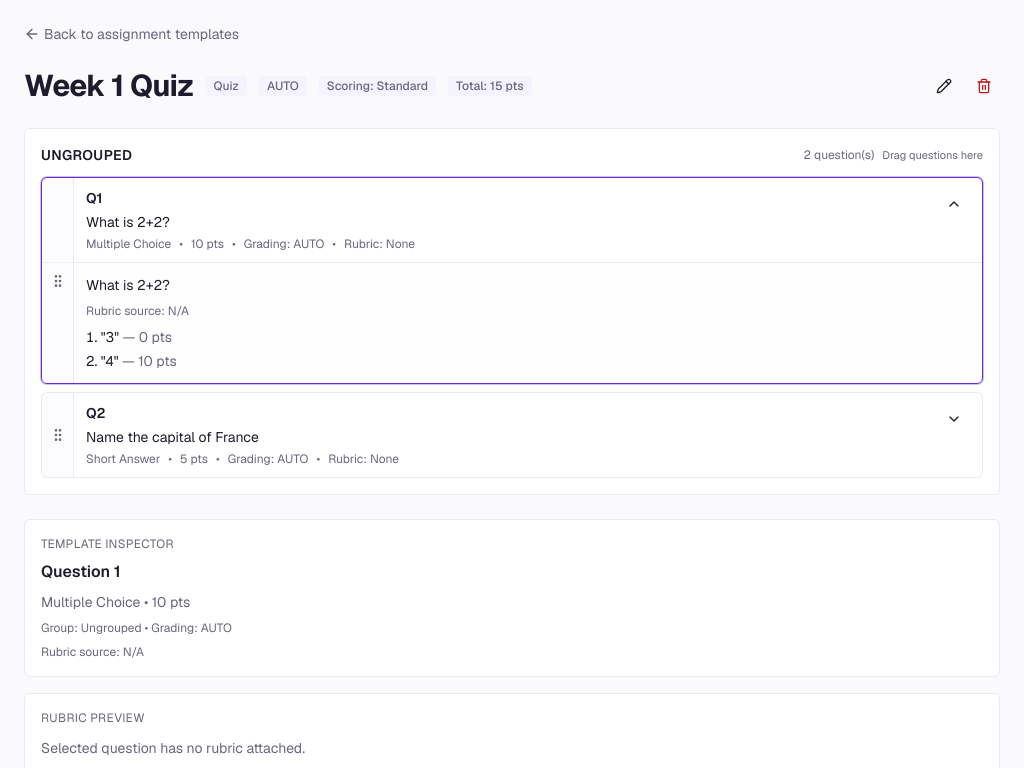
Test: AssignmentTemplateDetailView › collapses an expanded question when toggle is clicked
The width and height of the screenshot is (1024, 768).
Expected: the heading "Week 1 Quiz" is shown, [24,68,194,104]
What coordinates should you click on to do the following:
click the button named "Collapse question 1"
I would click on:
 (954, 204)
Its box is [938,188,970,220].
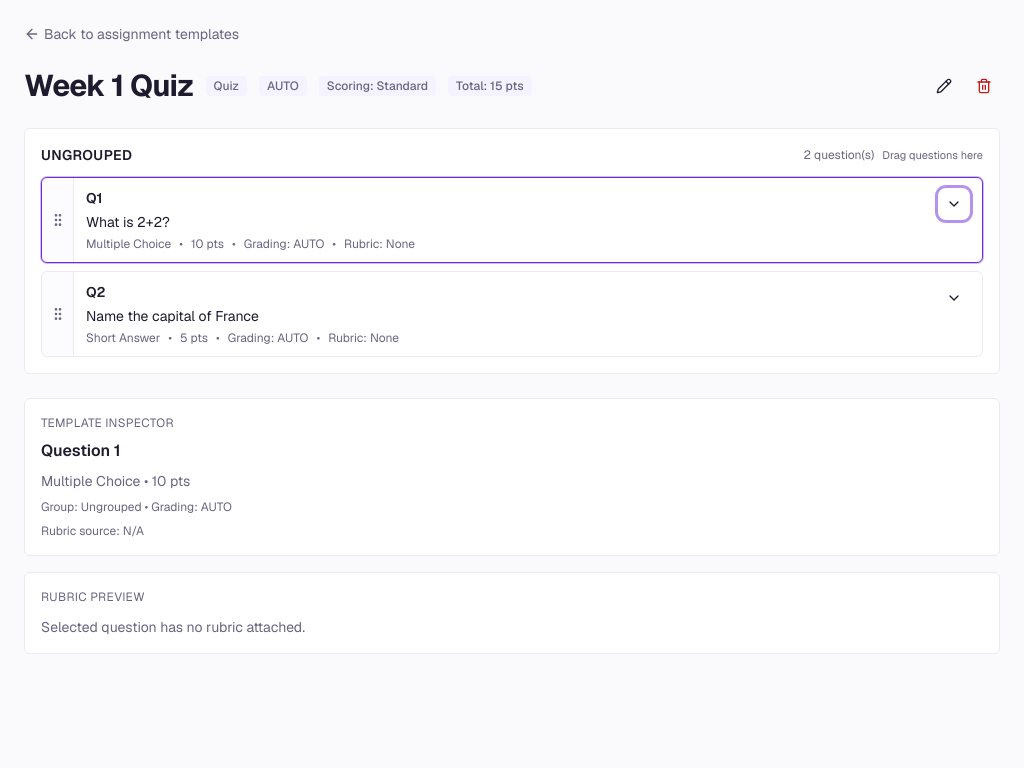
Now the button named "Expand question 1" is shown, box [938,188,970,220]
